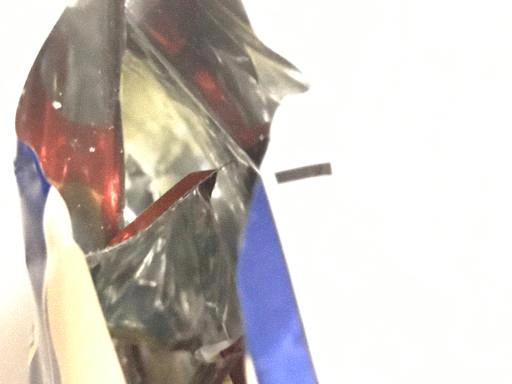trash: (14, 4, 316, 382)
